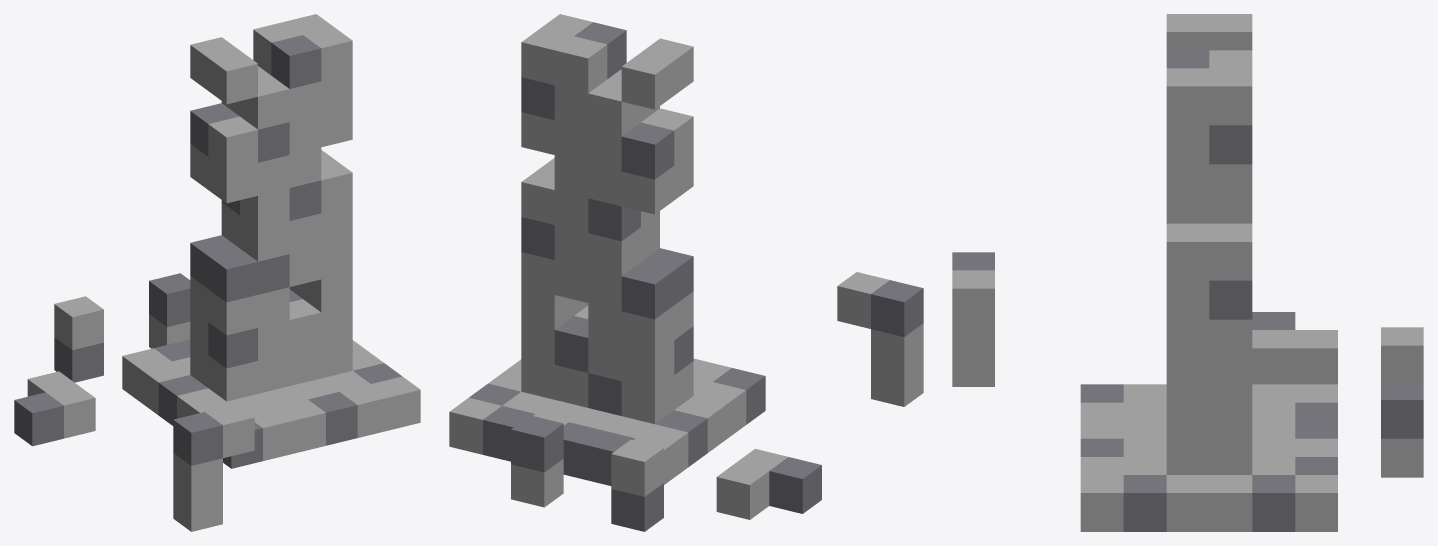
File: Stone art 2.obj
3 renders of one model, left to right at view 1: azimuth 30°, elevation 25°; view 2: azimuth 150°, elevation 25°; view 3: azimuth 270°, elevation 25°, orthographic. The views are drawn at different scales.
Size of the model in its own units: 1 by 1.1 by 1.1.
